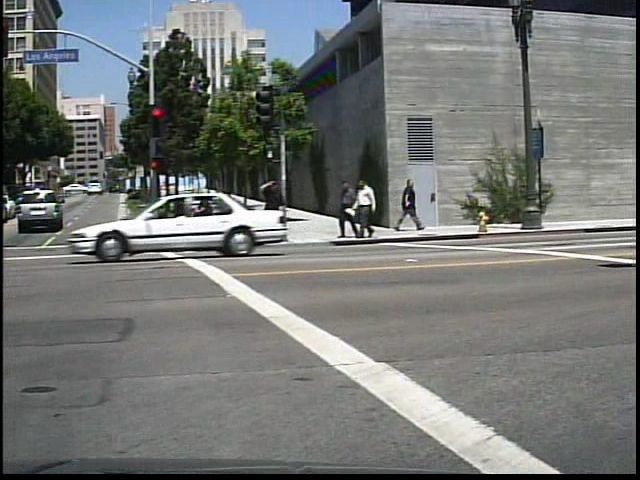person: (396, 172, 427, 235)
